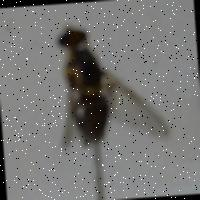Oriental-fruit-fly: (47, 5, 181, 166)
